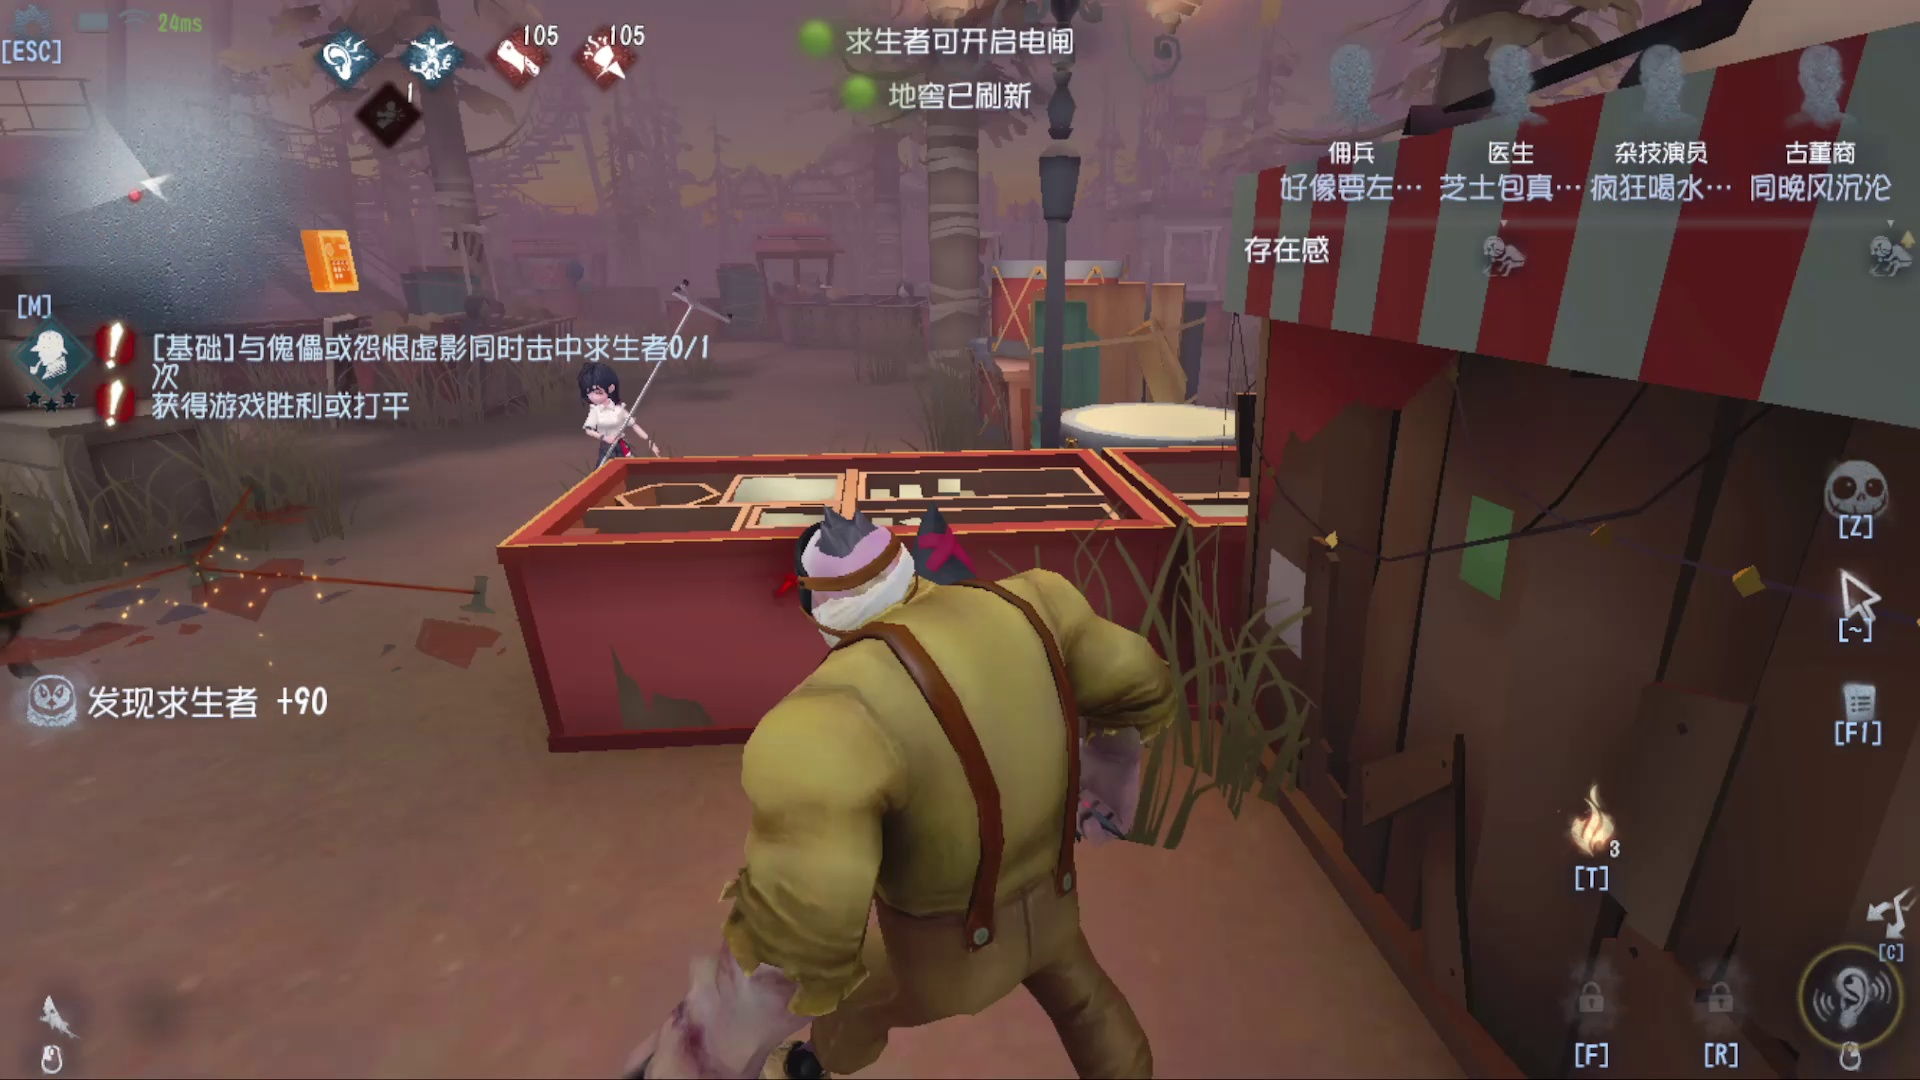木板: (1009, 258, 1203, 468), (394, 255, 506, 331), (708, 251, 796, 345)
求生者: (554, 336, 738, 462)
脚印: (104, 531, 493, 699)
